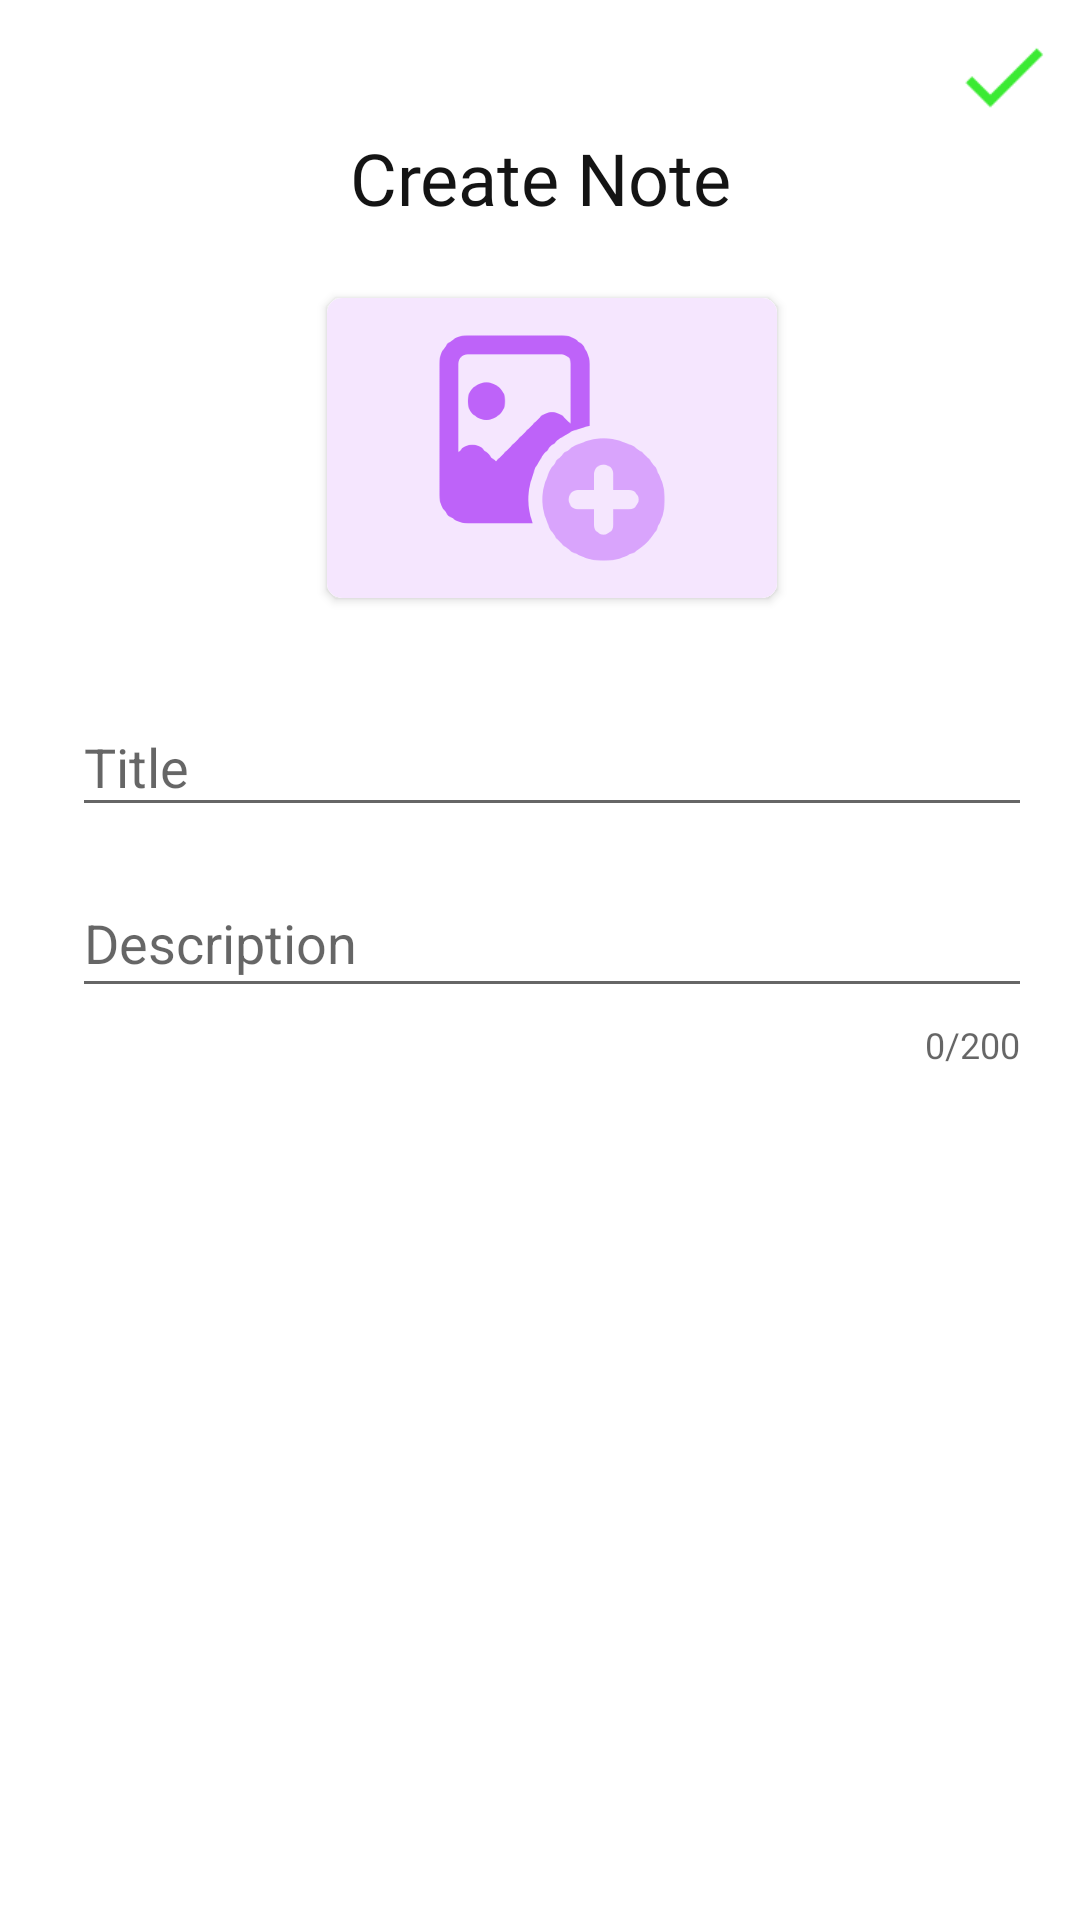

Named icons in this screenshot (1080x1920) and their centers, point (x, y):
done: point (1004, 78)
